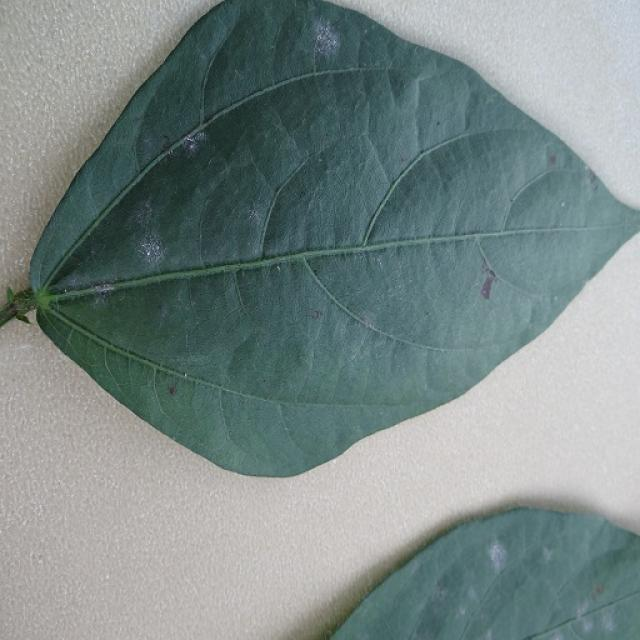Blackgram: (32, 0, 639, 475)
Powdery_Mildew: (127, 192, 165, 266), (308, 2, 341, 59), (138, 232, 164, 265), (135, 198, 155, 230), (180, 132, 204, 155), (488, 542, 507, 571), (357, 312, 377, 332), (95, 283, 116, 296), (247, 207, 260, 224), (542, 546, 553, 562)
